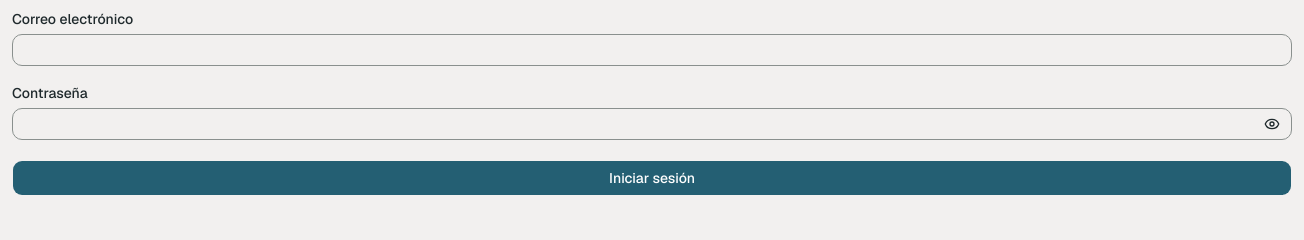
Scenario: LoginForm › valida el formato del correo antes de enviar
Type "correo-invalido" into the field labelled "Correo electrónico" at (652, 50), box [12,34,1292,66]
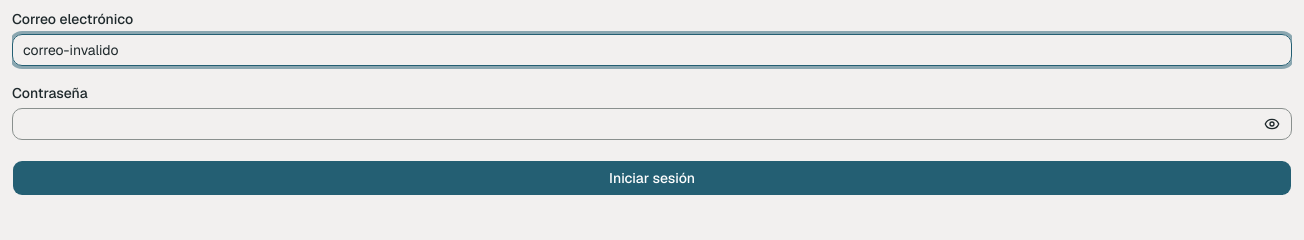
Type "secreto" into the password field labelled "Contraseña" at (652, 124), box [12,108,1292,140]
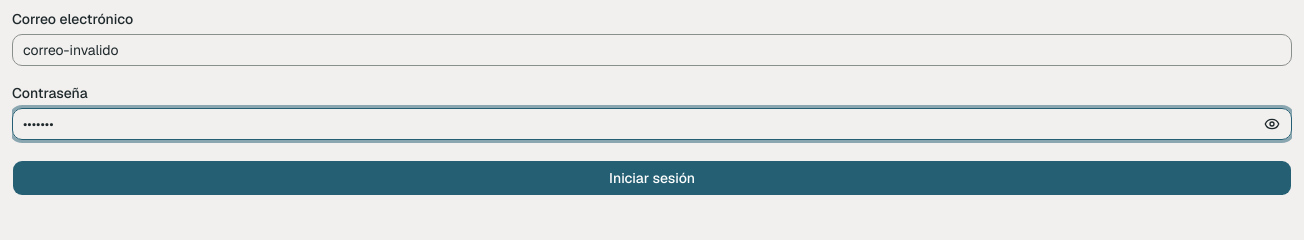
Click the button "Iniciar sesión" at (652, 178), box [12,160,1292,196]
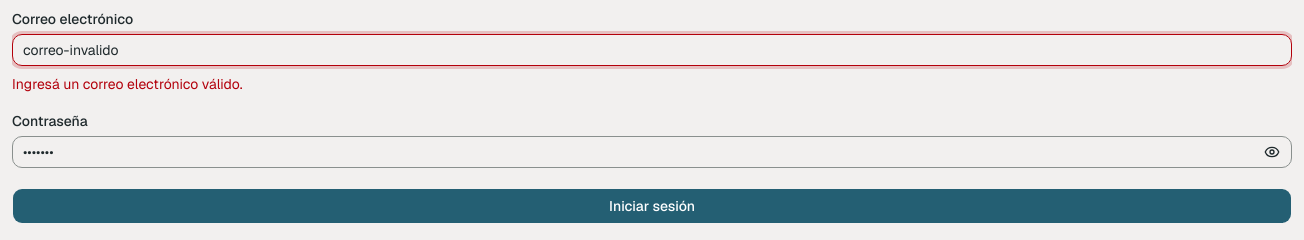
Expected: the text "Ingresá un correo electrónico válido." is shown, [12,75,243,93]
